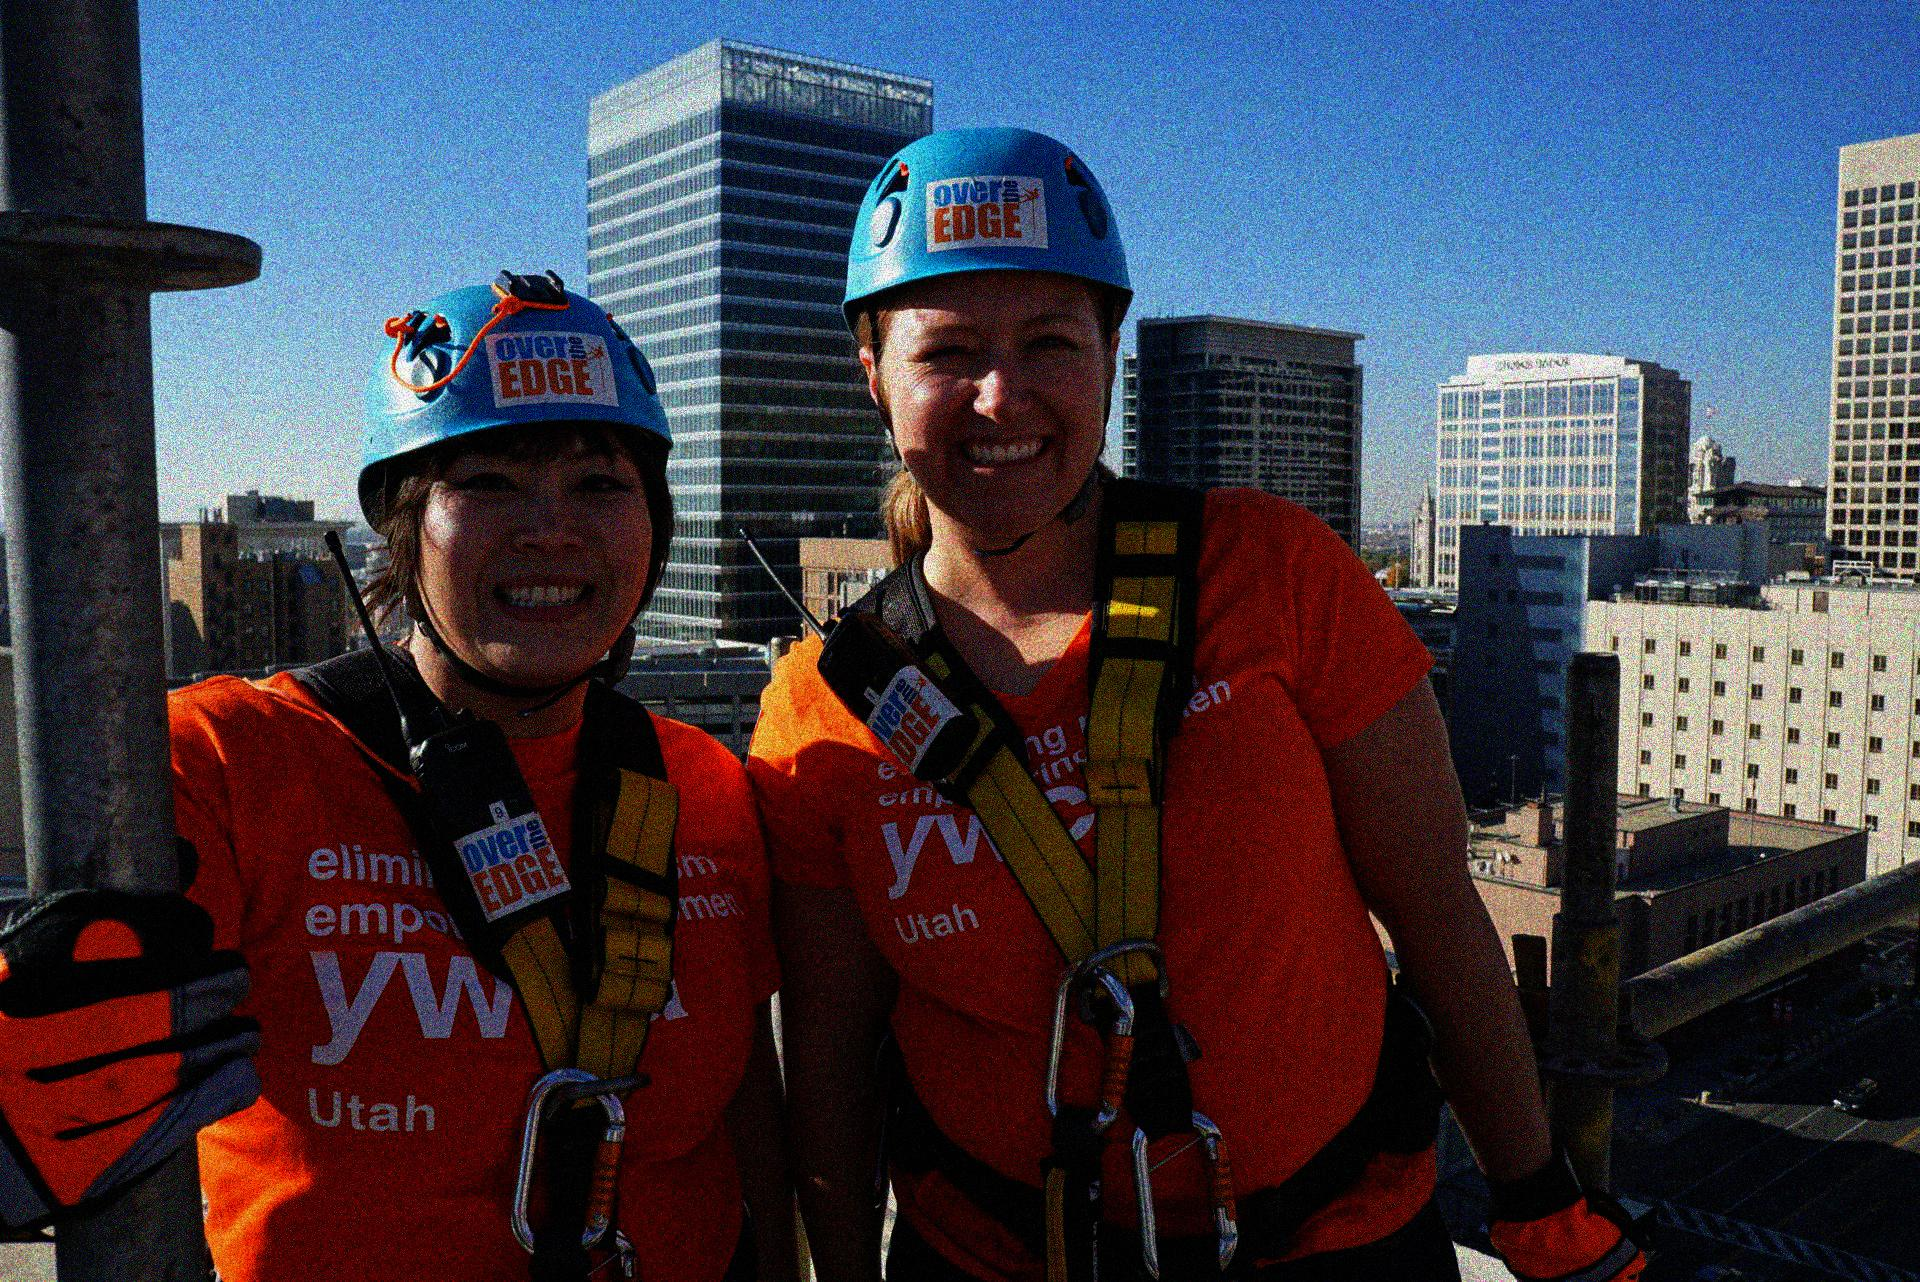helmet: (351, 269, 682, 688), (844, 120, 1135, 534)
